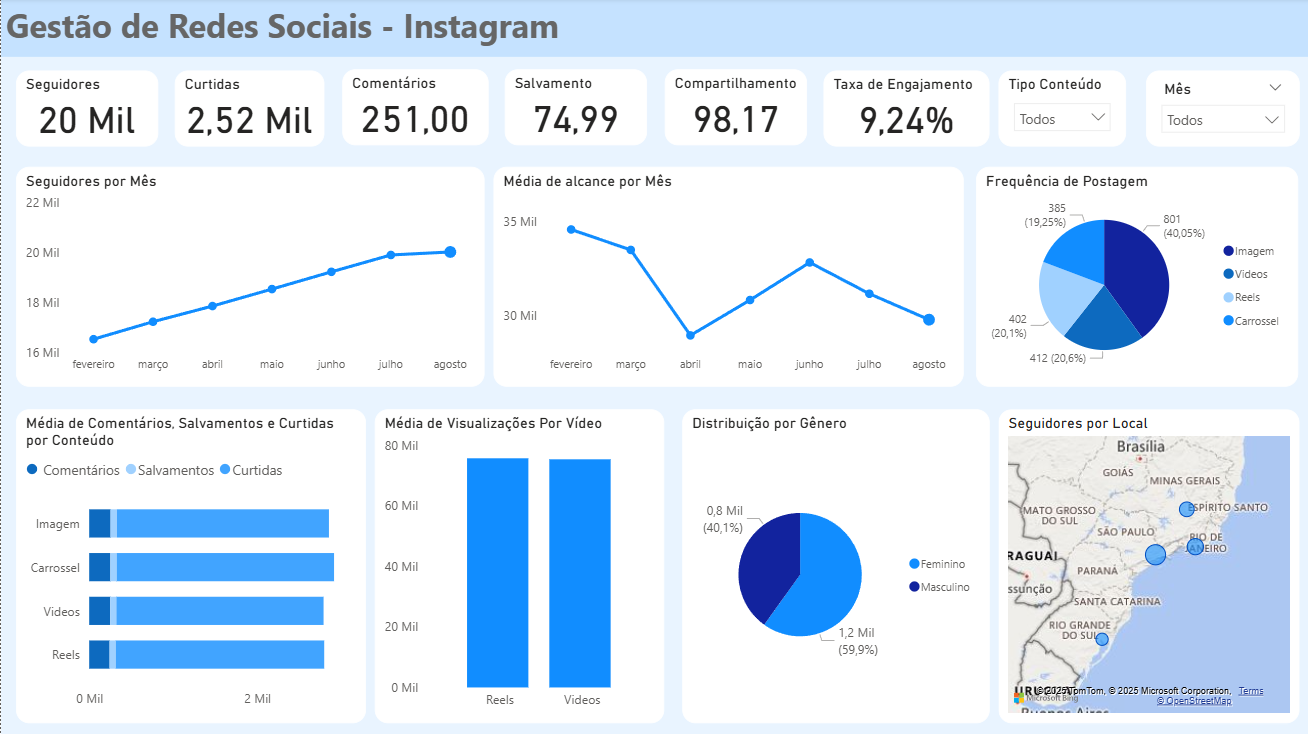

What the dashboard file says about the page in this screenshot:
{"tool":"powerbi","page":{"name":"Página 3","canvas":[1280,720],"ordinal":2},"visuals":[{"type":"textbox","box":[0,0,1280.3,57.5],"z":0},{"type":"card","title":"Seguidores","fields":{"Values":["Max(dados_instagram3.seguidores)"]},"box":[14.7,71.4,139,74],"z":1000},{"type":"card","title":"Salvamento","fields":{"Values":["Avg(dados_instagram3.salvamentos)"]},"box":[492.9,69.7,139.4,74.6],"z":2000},{"type":"card","title":"Curtidas","fields":{"Values":["Avg(dados_instagram3.curtidas)"]},"box":[170.1,70.9,146.7,74.6],"z":3000},{"type":"card","title":"Comentários","fields":{"Values":["Avg(dados_instagram3.comentarios)"]},"box":[333.3,69.7,143.1,74.6],"z":4000},{"type":"card","title":"Compartilhamento","fields":{"Values":["Avg(dados_instagram3.compartilhamentos)"]},"box":[648.8,69.7,139.4,74.6],"z":5000},{"type":"card","title":"Taxa de Engajamento","fields":{"Values":["dados_instagram3.teste(%)"]},"box":[804.6,70.9,162.6,74.6],"z":6000},{"type":"slicer","title":"Tipo Conteúdo","fields":{"Values":["dados_instagram3.tipo_conteudo"]},"box":[975.8,70.9,124.7,74.6],"z":7000},{"type":"slicer","fields":{"Values":["dados_instagram3.data_postagem.Variation.Hierarquia de datas.Mês"]},"box":[1120.1,70.9,150.4,74.6],"z":8000},{"type":"lineChart","title":"Seguidores por Mês","fields":{"Category":["dados_instagram3.data_postagem.Variation.Hierarquia de datas.Mês","dados_instagram3.data_postagem.Variation.Hierarquia de datas.Dia"],"Y":["dados_instagram3.crescimentoSeguidores"]},"box":[14.7,165.1,458.6,215.2],"z":9000},{"type":"areaChart","fields":{"Category":["dados_instagram3.data_postagem.Variation.Hierarquia de datas.Mês","dados_instagram3.data_postagem.Variation.Hierarquia de datas.Dia"],"Y":["Avg(dados_instagram3.alcance)"]},"box":[481.8,165.1,459.8,215.2],"z":10000},{"type":"pieChart","title":"Frequência de Postagem","fields":{"Category":["dados_instagram3.tipo_conteudo"],"Y":["CountNonNull(dados_instagram3.data_postagem)"]},"box":[953.8,165.1,315.5,215.2],"z":11000},{"type":"barChart","title":"Média de Comentários, Salvamentos e Curtidas por Conteúdo","fields":{"Category":["dados_instagram3.tipo_conteudo"],"Y":["Avg(dados_instagram3.comentarios)","Avg(dados_instagram3.salvamentos)","Avg(dados_instagram3.curtidas)"]},"box":[14.7,402.3,342.4,306.9],"z":12000},{"type":"columnChart","title":"Média de Visualizações Por Vídeo","fields":{"Category":["dados_instagram3.tipo_conteudo"],"Y":["Avg(dados_instagram3.visualizacoes_video)"]},"box":[366.2,402,283.2,307.6],"z":13000},{"type":"pieChart","title":"Distribuição por Gênero","fields":{"Category":["dados_instagram3.genero_predominante"],"Y":["CountNonNull(dados_instagram3.post_id)"]},"box":[666.6,402,300.4,307.6],"z":14000},{"type":"map","title":"Seguidores por Local","fields":{"Category":["dados_instagram3.localizacao_principal"],"Size":["Sum(dados_instagram3.seguidores)"]},"box":[975.8,402.3,294.7,306.9],"z":15000}]}

Visuals, with their boxes in screenshot pixels (x1, y1, x2, y2), scaled from the page's 1280x720 canvas onto the 1308x734 screenshot:
textbox: <box>0,0,1307,59</box>
"Seguidores" card: <box>15,73,157,148</box>
"Salvamento" card: <box>504,71,646,147</box>
"Curtidas" card: <box>174,72,324,148</box>
"Comentários" card: <box>341,71,487,147</box>
"Compartilhamento" card: <box>663,71,805,147</box>
"Taxa de Engajamento" card: <box>822,72,988,148</box>
"Tipo Conteúdo" slicer: <box>997,72,1125,148</box>
slicer - dados_instagram3.data_postagem.Variation.Hierarquia de datas.Mês: <box>1145,72,1298,148</box>
"Seguidores por Mês" lineChart: <box>15,168,484,388</box>
areaChart - dados_instagram3.data_postagem.Variation.Hierarquia de datas.Mês x dados_instagram3.data_postagem.Variation.Hierarquia de datas.Dia: <box>492,168,962,388</box>
"Frequência de Postagem" pieChart: <box>975,168,1297,388</box>
"Média de Comentários, Salvamentos e Curtidas por Conteúdo" barChart: <box>15,410,365,723</box>
"Média de Visualizações Por Vídeo" columnChart: <box>374,410,664,723</box>
"Distribuição por Gênero" pieChart: <box>681,410,988,723</box>
"Seguidores por Local" map: <box>997,410,1298,723</box>
